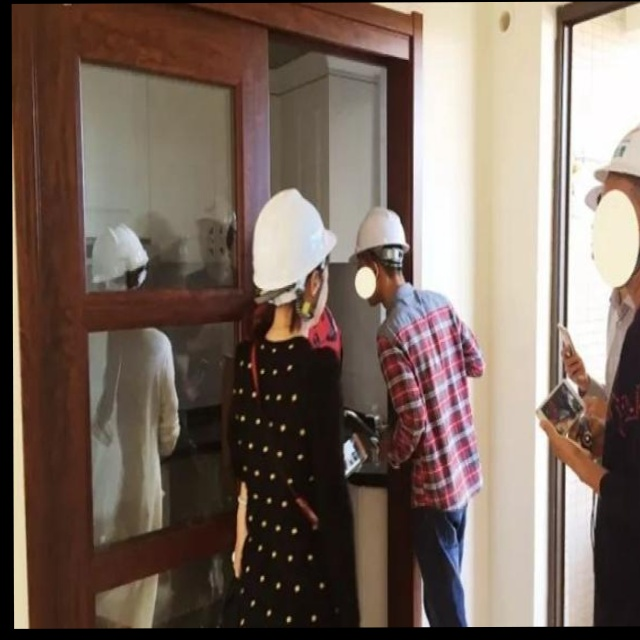Con_Casco: (252, 191, 336, 328), (90, 224, 150, 290)
